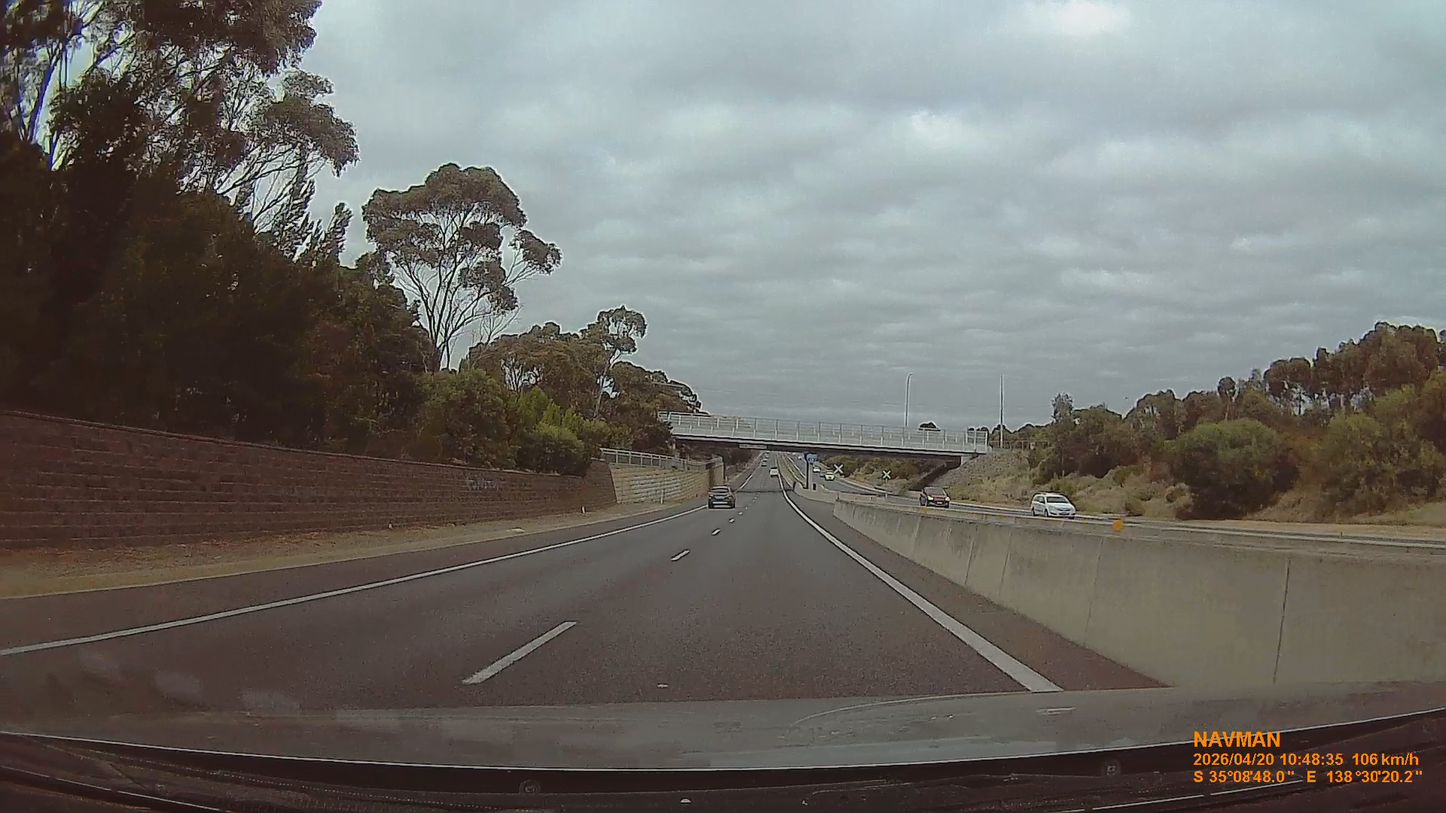road barriers: (812, 493, 1446, 688)
